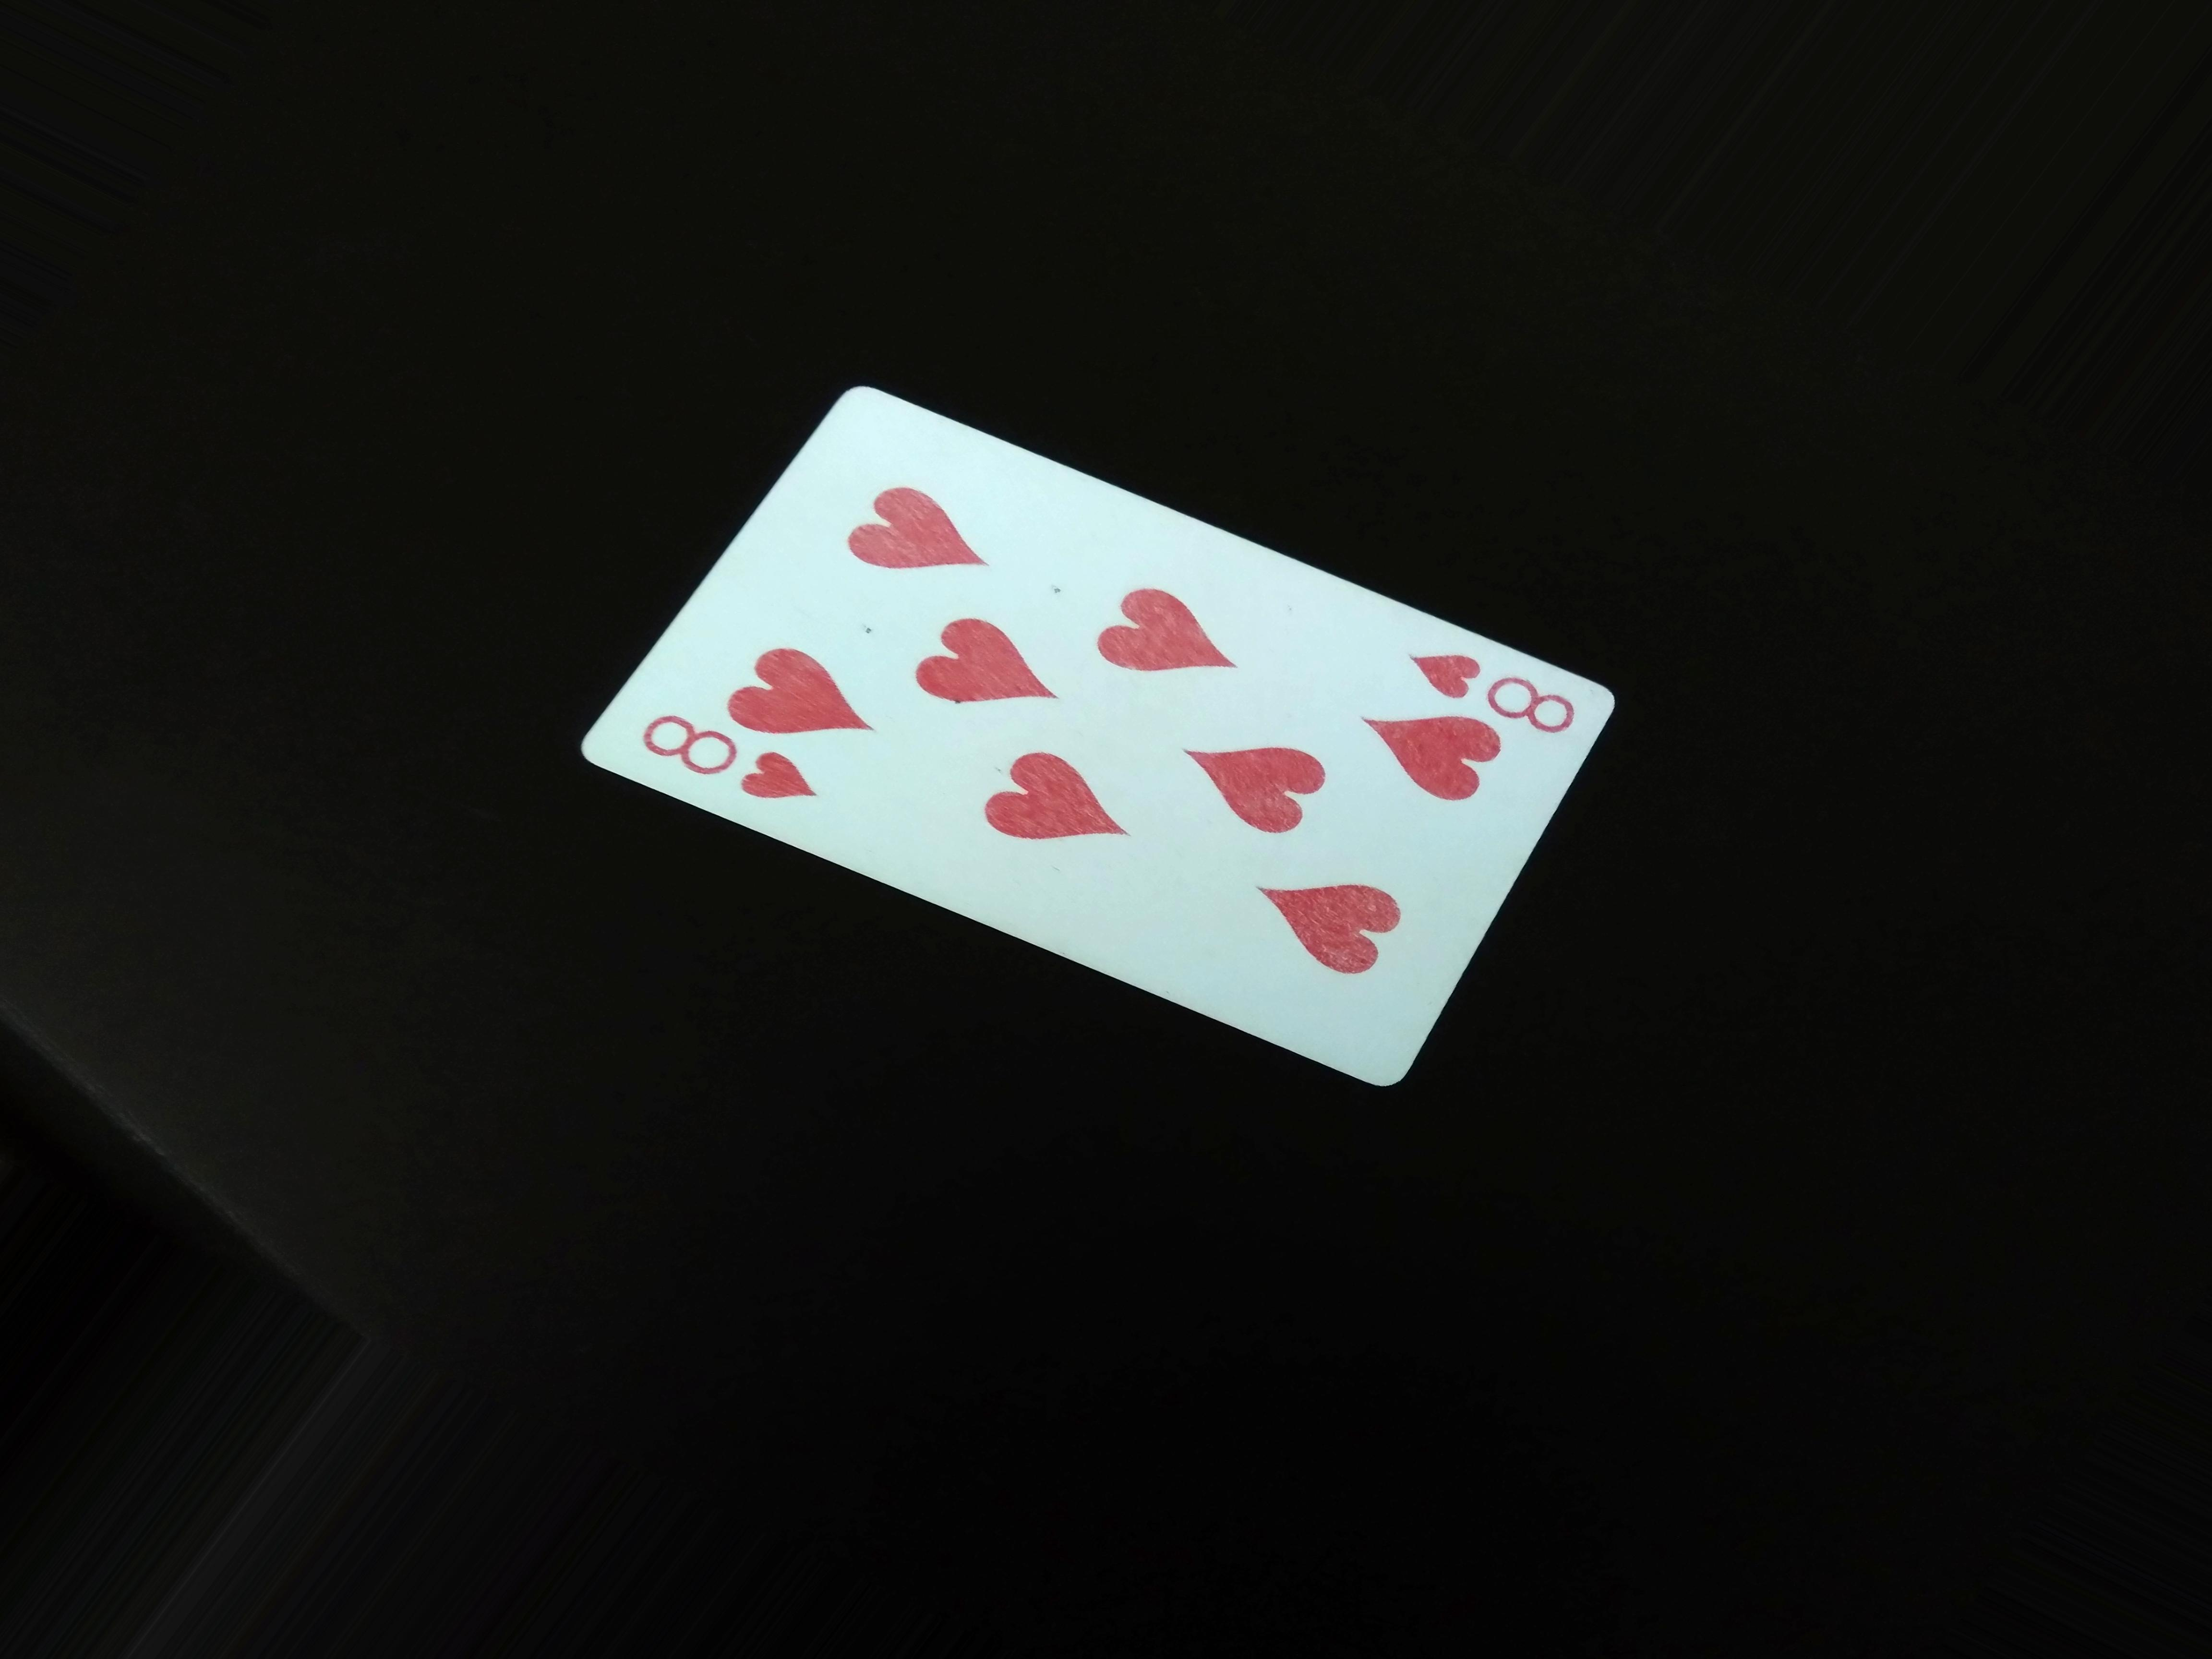8H: (615, 695, 833, 810)
